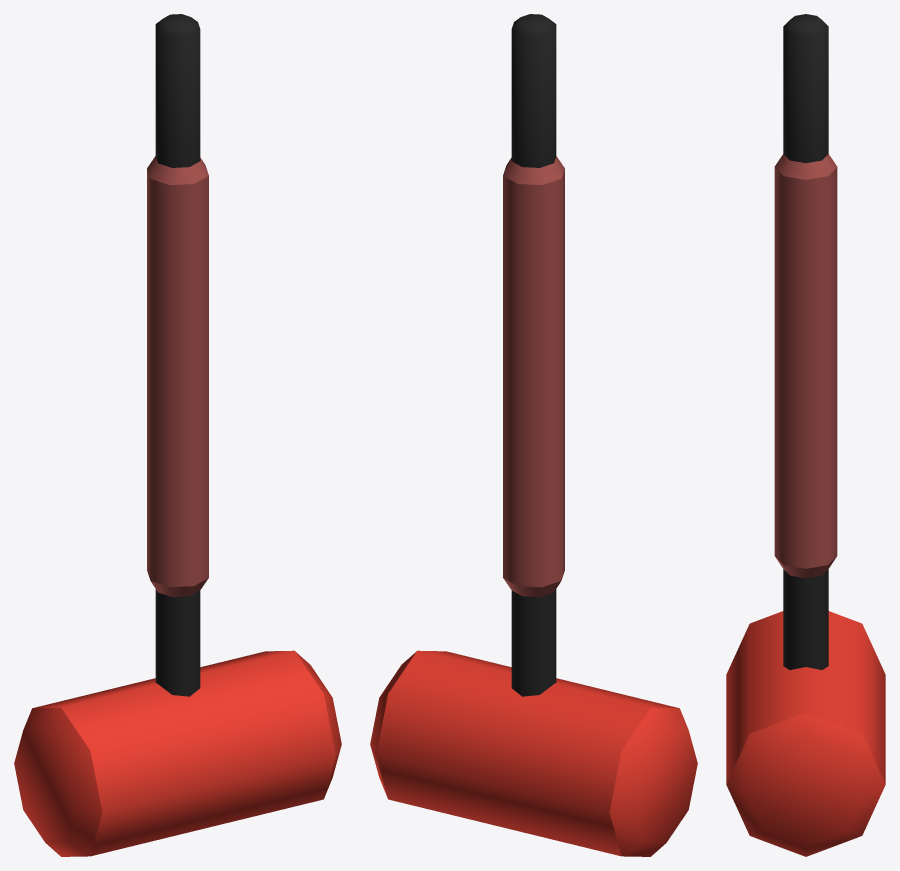
Rendered from Hammer.fbx.
3 views of the same model, side by side, from view 1: azimuth 30°, elevation 25°; view 2: azimuth 150°, elevation 25°; view 3: azimuth 270°, elevation 25° (orthographic). The views are drawn at different scales.
Parts seen in each view (by area): view 1: Hammer; view 2: Hammer; view 3: Hammer.
Part boxes in pixels (x1,y1,x2,y2): Hammer: (14, 14, 341, 856); Hammer: (370, 14, 697, 856); Hammer: (726, 14, 885, 856).
Bounding box in the file's own units: 107 × 313 × 57.76.
